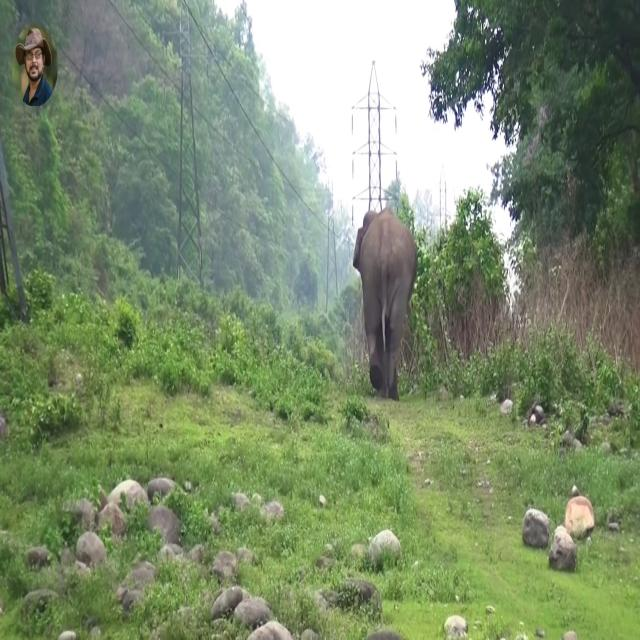Elephant: (352, 207, 418, 401)
